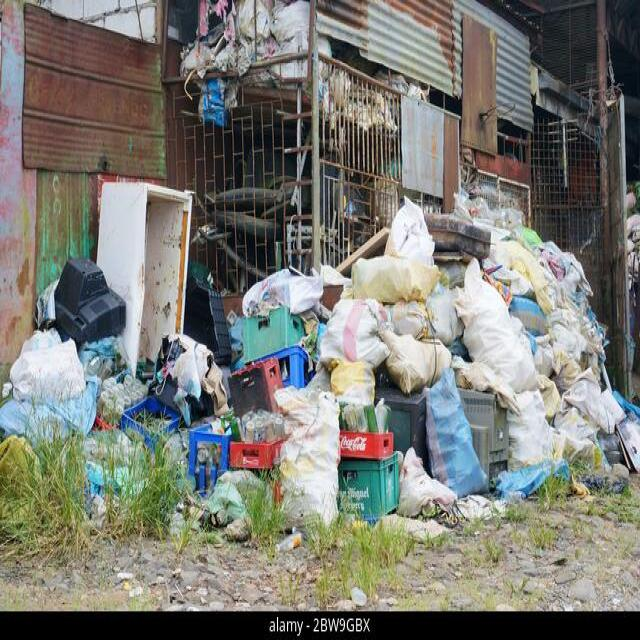metal: (60, 265, 114, 339)
trash: (162, 208, 592, 532), (10, 356, 106, 449)
